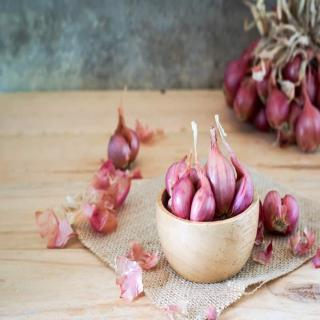Bawang Merah: (165, 114, 255, 222)
